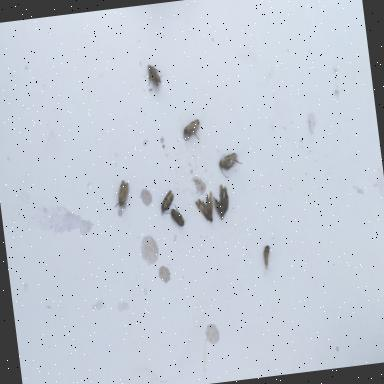pbw: (194, 189, 216, 223), (218, 148, 243, 176), (109, 178, 131, 208), (181, 115, 202, 140), (158, 188, 178, 214), (170, 202, 186, 226)
